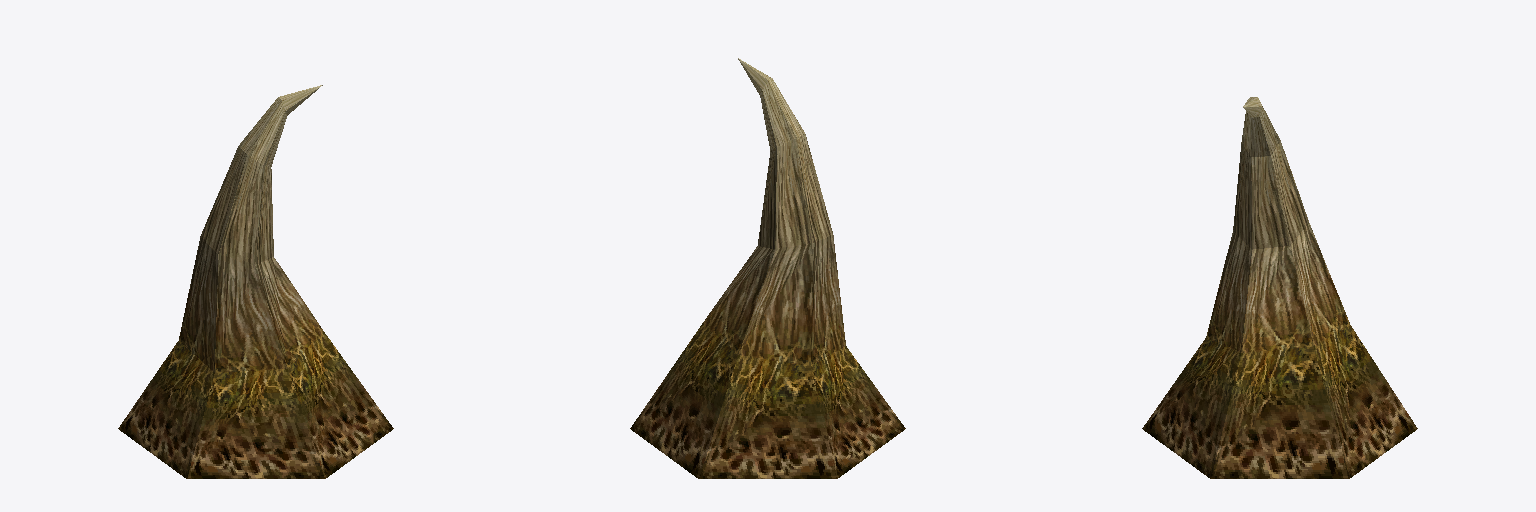
3 renders of one model, left to right at view 1: azimuth 30°, elevation 25°; view 2: azimuth 150°, elevation 25°; view 3: azimuth 270°, elevation 25°, orthographic.
Visible parts, largest first — view 1: SwampSorrowRoot01; view 2: SwampSorrowRoot01; view 3: SwampSorrowRoot01.
Boxes of the visible parts, x1=… form: SwampSorrowRoot01: x1=118, y1=85, x2=393, y2=478; SwampSorrowRoot01: x1=630, y1=58, x2=905, y2=478; SwampSorrowRoot01: x1=1142, y1=97, x2=1417, y2=478.
Bounding box in the file's own units: 2.59 × 4.13 × 2.99.
1 materials, 1 textured.